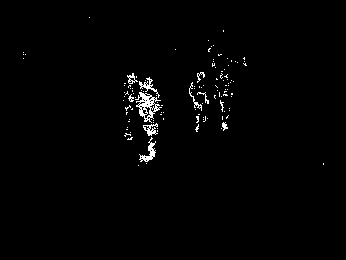person: (136, 78, 165, 164), (186, 70, 212, 131), (215, 69, 239, 132)
